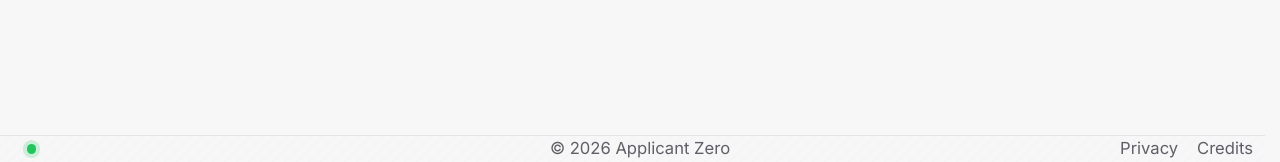
Scenario: Footer › opens the credits on click
Step 1. Click the button "Credits" → (1225, 149), box [1197,136,1253,161]
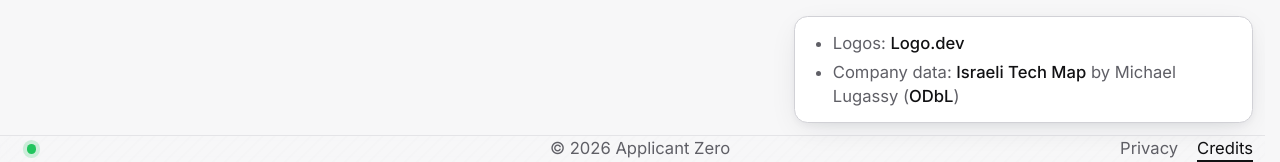
Check: the button "Credits" is expanded, box [1197,136,1253,161]
